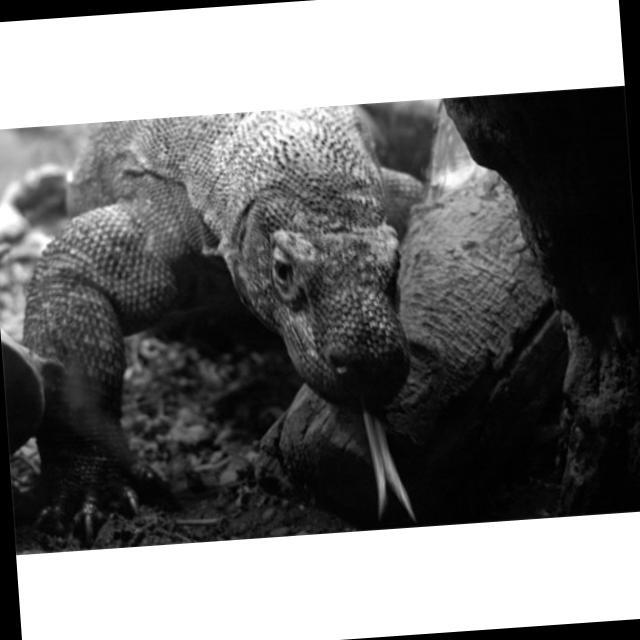KomodoDragon: (11, 100, 452, 550)
